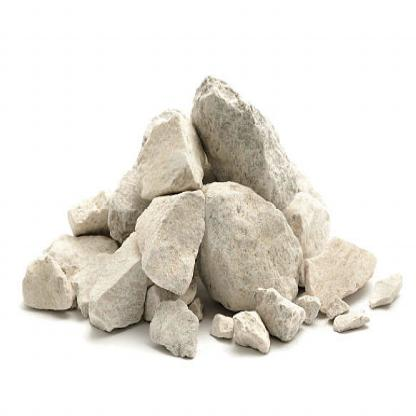Sedimentary_Limestone: (189, 59, 308, 199), (193, 171, 299, 301), (133, 183, 210, 293), (130, 106, 202, 214), (89, 236, 144, 341)
